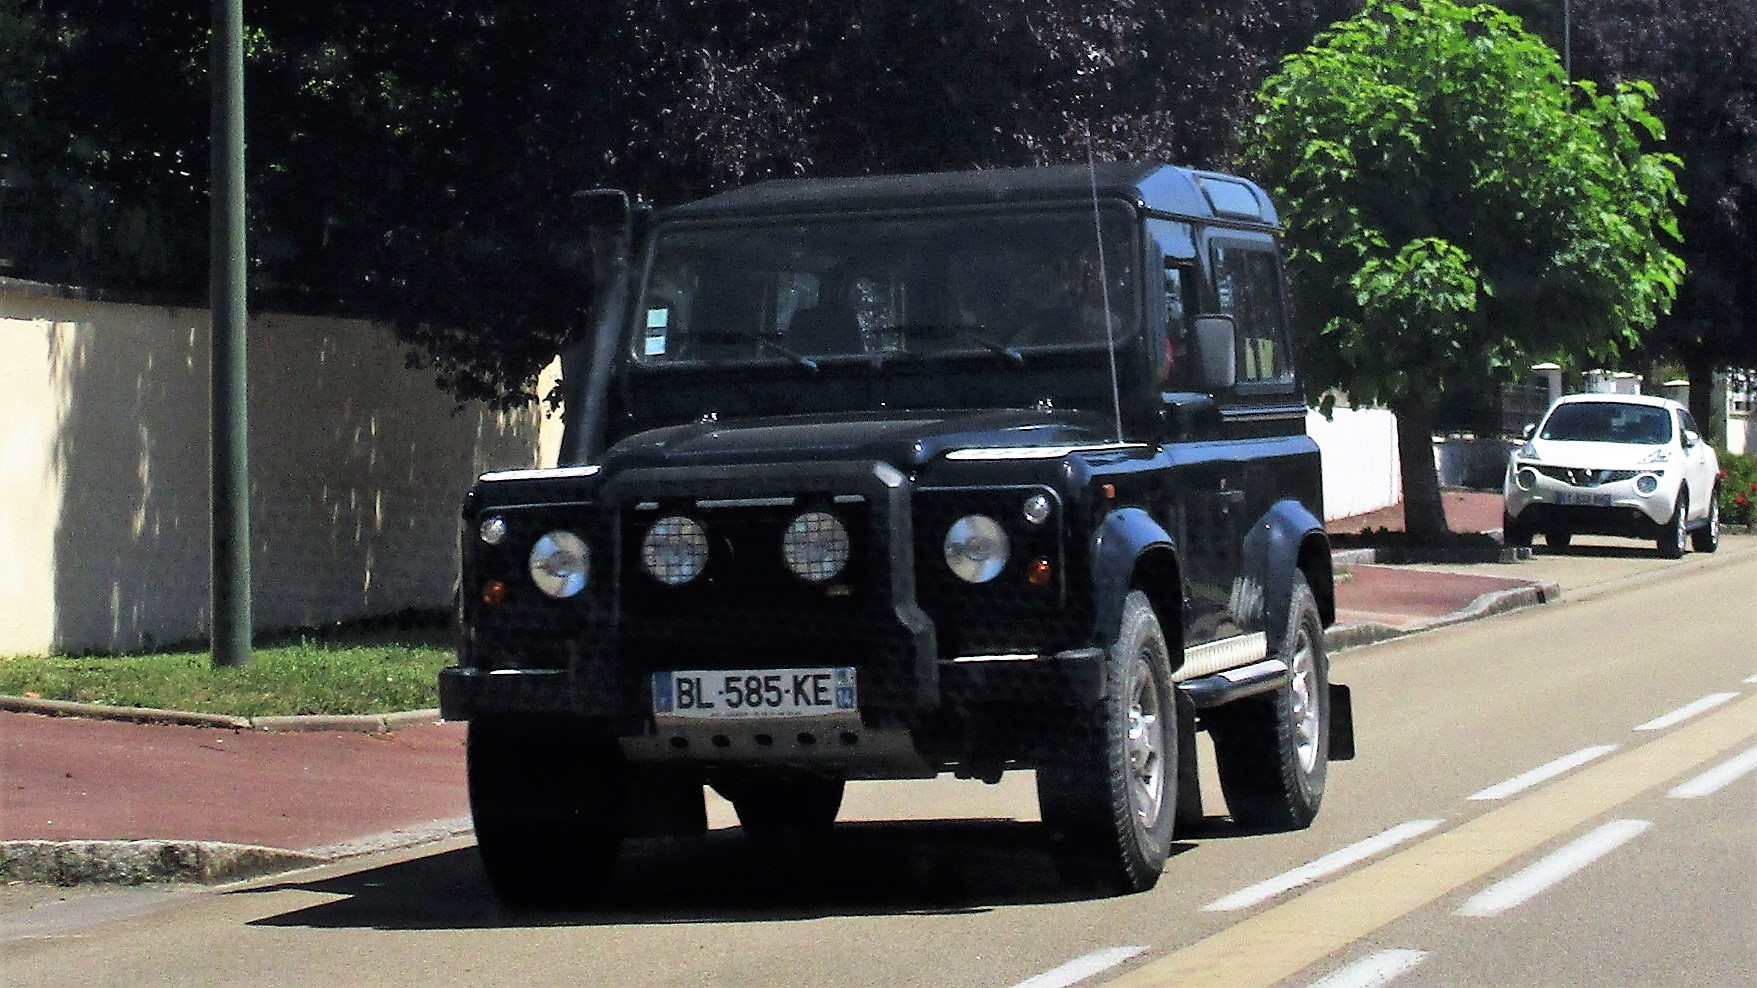licence plate: (645, 666, 862, 722)
